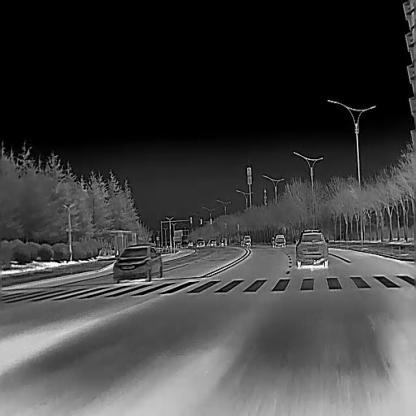car: (111, 242, 161, 282), (292, 229, 328, 268), (272, 233, 285, 247), (196, 237, 205, 247), (243, 234, 251, 244), (207, 238, 216, 246), (221, 236, 227, 246), (187, 240, 193, 246)
